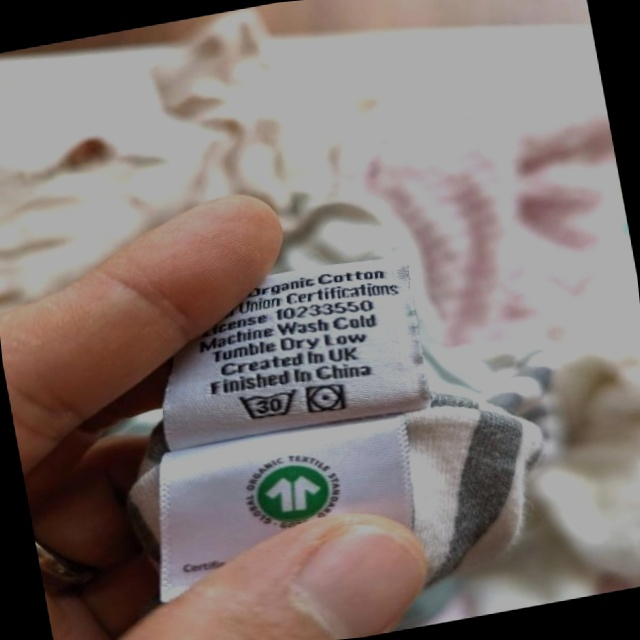30C: (232, 382, 303, 428)
tumble_dry_low: (301, 377, 351, 420)
